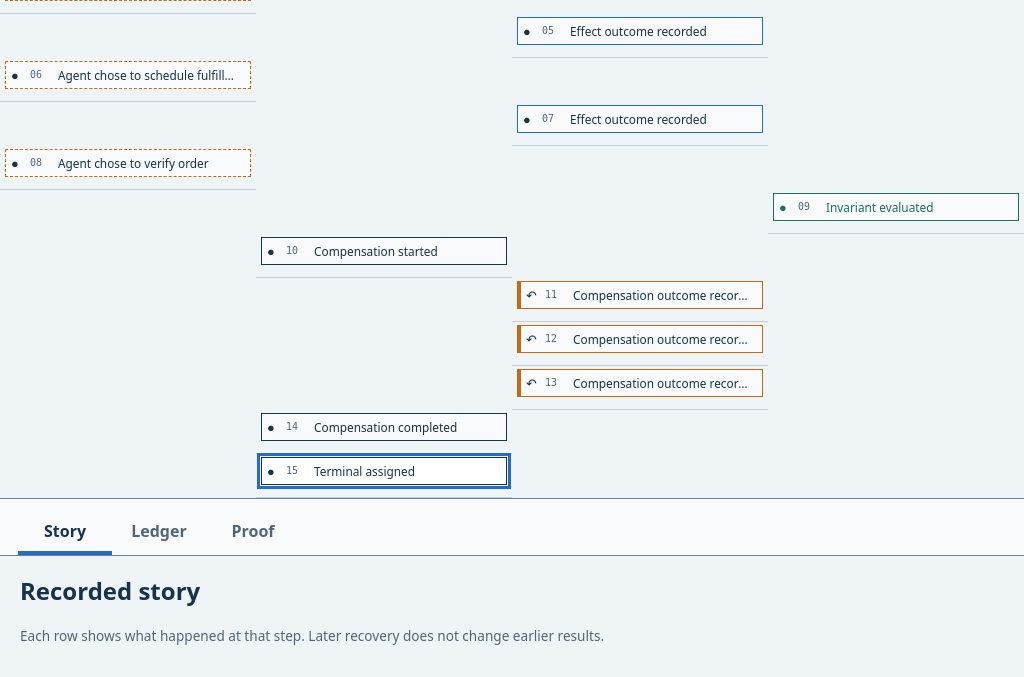
Test: RecorderWorkbench › lets a keyboard user isolate a recorded forward and compensation chain
(page scrolled)
What coordinates should you click on to do the following:
click the button "↶ 11 Compensation outcome recorded"
I would click on:
 (640, 295)
Its box is [517, 281, 763, 309].
(page scrolled)
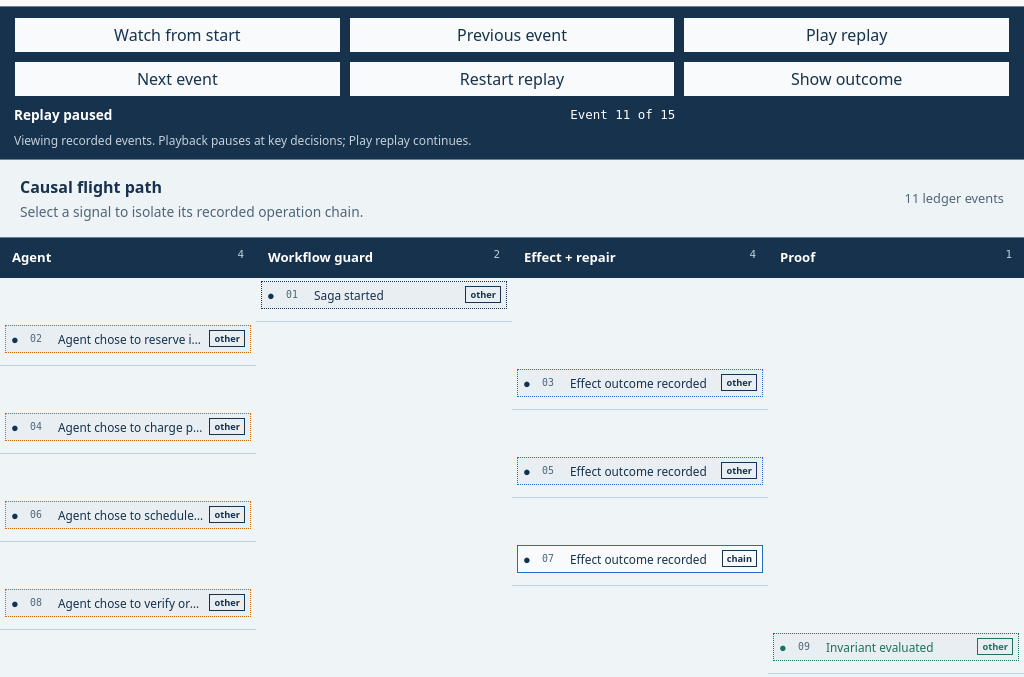
Result: the button with test id "muted-signal" shows "other" at [261, 281, 507, 309]
